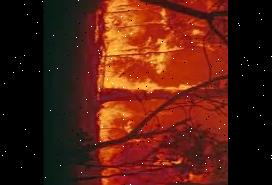fire: (91, 14, 191, 88), (94, 98, 135, 136), (146, 150, 193, 174), (100, 0, 132, 13)
